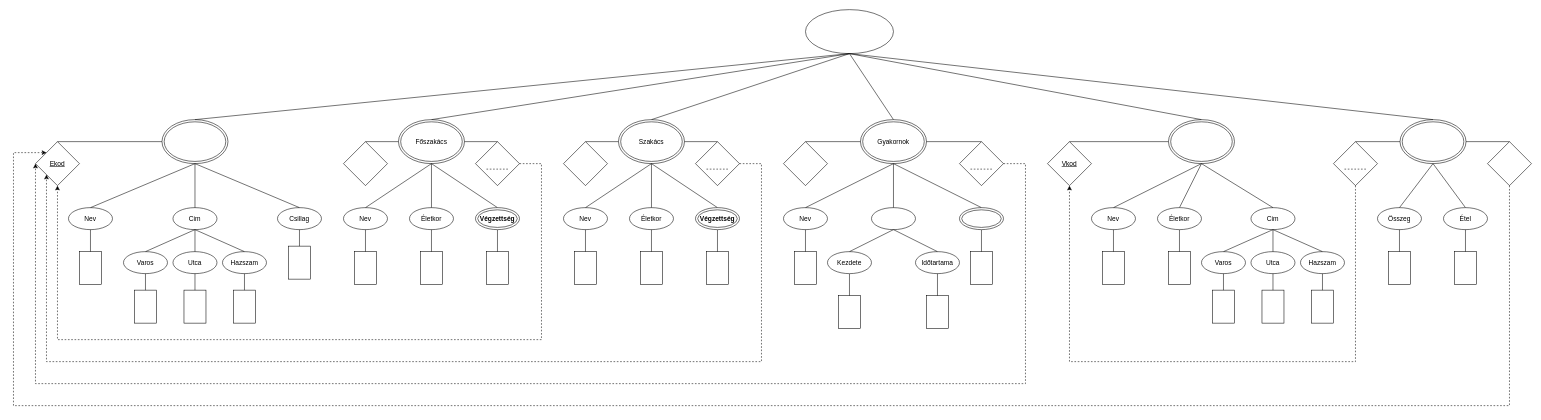
The diagram is 1541 pixels wide and 420 high, and some of its shapes have lost their labels. The box of each missing label's shape, as (x1, y1, x2, y2) in pixels:
A43YN6_Vendeglatas: (805, 9, 893, 54)
E_F: (475, 141, 519, 186)
E_GY: (959, 141, 1003, 186)
E_SZ: (695, 141, 739, 186)
E_V_E: (1487, 141, 1531, 186)
E_V_V: (1333, 141, 1377, 186)
Fkod: (343, 141, 387, 186)
Gyakorlat: (871, 207, 915, 230)
Gykod: (783, 141, 827, 186)
Műszak: (959, 207, 1003, 230)
Rendelés: (1399, 119, 1466, 164)
Szkod: (563, 141, 607, 186)
Vendeg: (1168, 119, 1234, 164)
É tterem: (161, 119, 228, 164)
